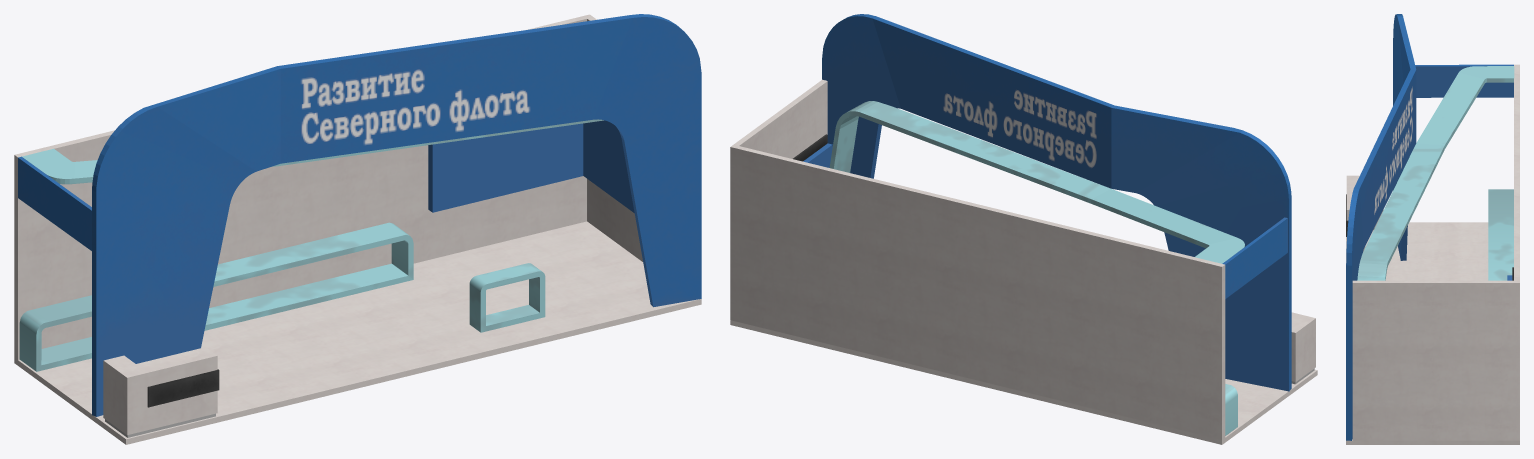
The model's file is Razvitie_Severnogo_flota.glb.
3 renders of one model, left to right at view 1: azimuth 30°, elevation 25°; view 2: azimuth 150°, elevation 25°; view 3: azimuth 270°, elevation 25°, orthographic. The views are drawn at different scales.
Parts seen in each view (by area): view 1: Rectangle03_low, Box01_low, Rectangle01_low, Rectangle11_low, Rectangle12_low, Rectangle08_low, Box16_low, Rectangle38_low, Rectangle05_low, Rectangle10_low; view 2: Rectangle01_low, Rectangle03_low, Rectangle05_low, Box01_low, Box16_low, Rectangle08_low, Rectangle11_low; view 3: Rectangle01_low, Rectangle03_low, Rectangle05_low, Box01_low, Rectangle11_low, Box16_low, Rectangle08_low.
Boxes of the visible parts, x1,y1,x2,y2 form: Rectangle03_low: [92, 14, 701, 416]; Box01_low: [14, 221, 701, 444]; Rectangle01_low: [14, 14, 642, 359]; Rectangle11_low: [19, 222, 413, 371]; Rectangle12_low: [428, 120, 634, 212]; Rectangle08_low: [103, 347, 217, 435]; Box16_low: [18, 156, 91, 250]; Rectangle38_low: [469, 263, 545, 332]; Rectangle05_low: [22, 119, 603, 184]; Rectangle10_low: [147, 369, 219, 407]; Rectangle01_low: [730, 79, 1225, 439]; Rectangle03_low: [822, 14, 1291, 391]; Rectangle05_low: [829, 101, 1244, 263]; Box01_low: [730, 320, 1317, 444]; Box16_low: [1222, 217, 1287, 298]; Rectangle08_low: [1291, 312, 1315, 381]; Rectangle11_low: [1225, 384, 1237, 435]; Rectangle01_low: [1352, 64, 1519, 440]; Rectangle03_low: [1346, 14, 1416, 440]; Rectangle05_low: [1357, 66, 1514, 280]; Box01_low: [1346, 222, 1519, 444]; Rectangle11_low: [1488, 189, 1513, 280]; Box16_low: [1415, 64, 1513, 97]; Rectangle08_low: [1346, 175, 1383, 251].
Bounding box in the file's own units: 13.1 × 6.48 × 4.4.
Materials: 1 (1 with a texture image).
